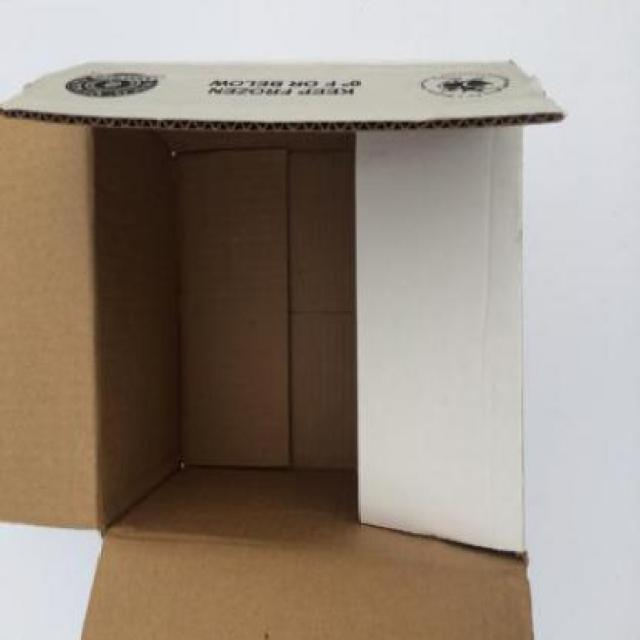box: (0, 47, 572, 640)
